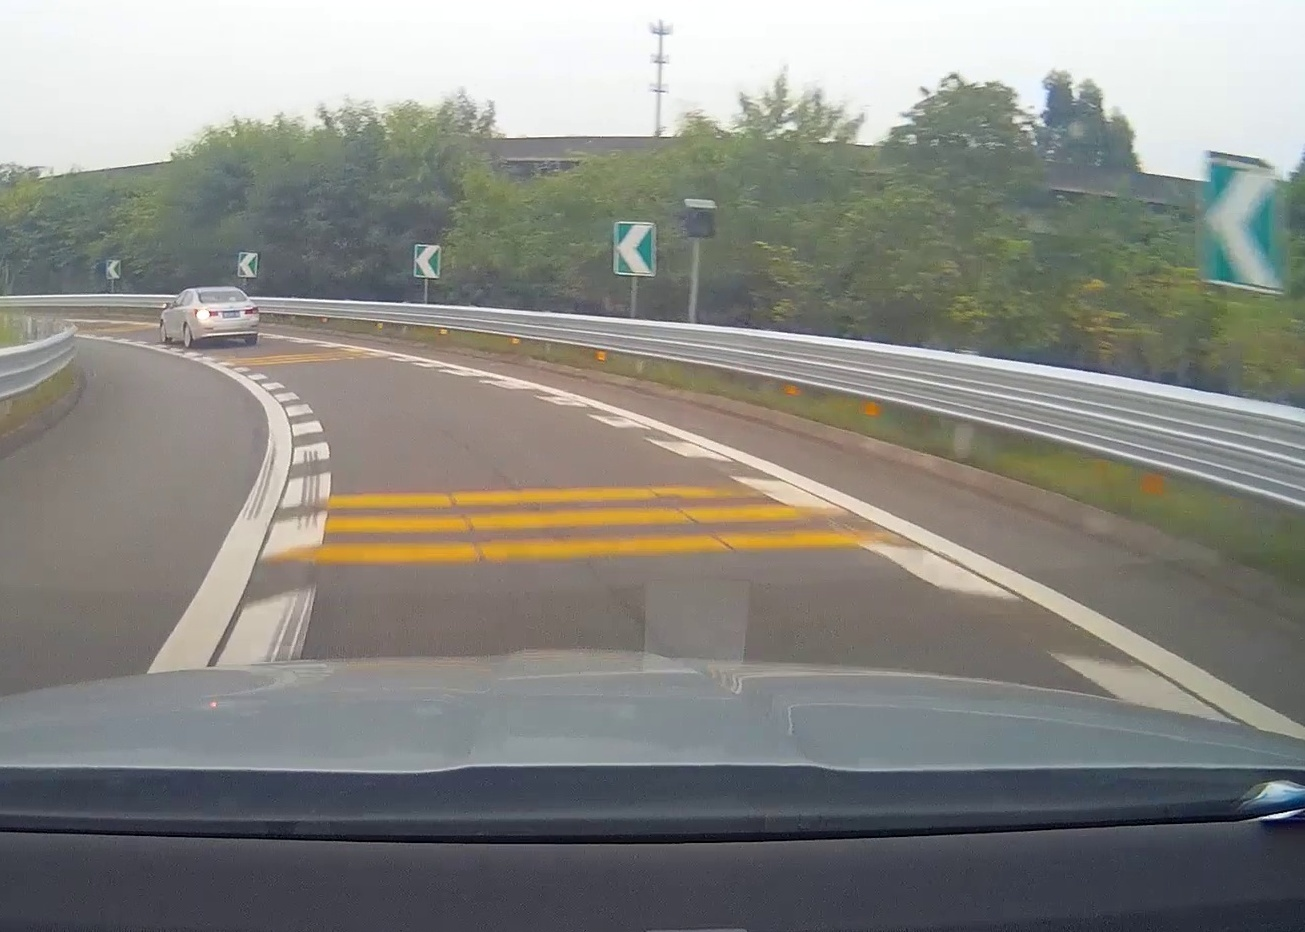L_light: (193, 308, 218, 317)
R_light: (245, 306, 259, 314)
T_light: (216, 290, 227, 292)
day-left: (190, 286, 260, 348)
